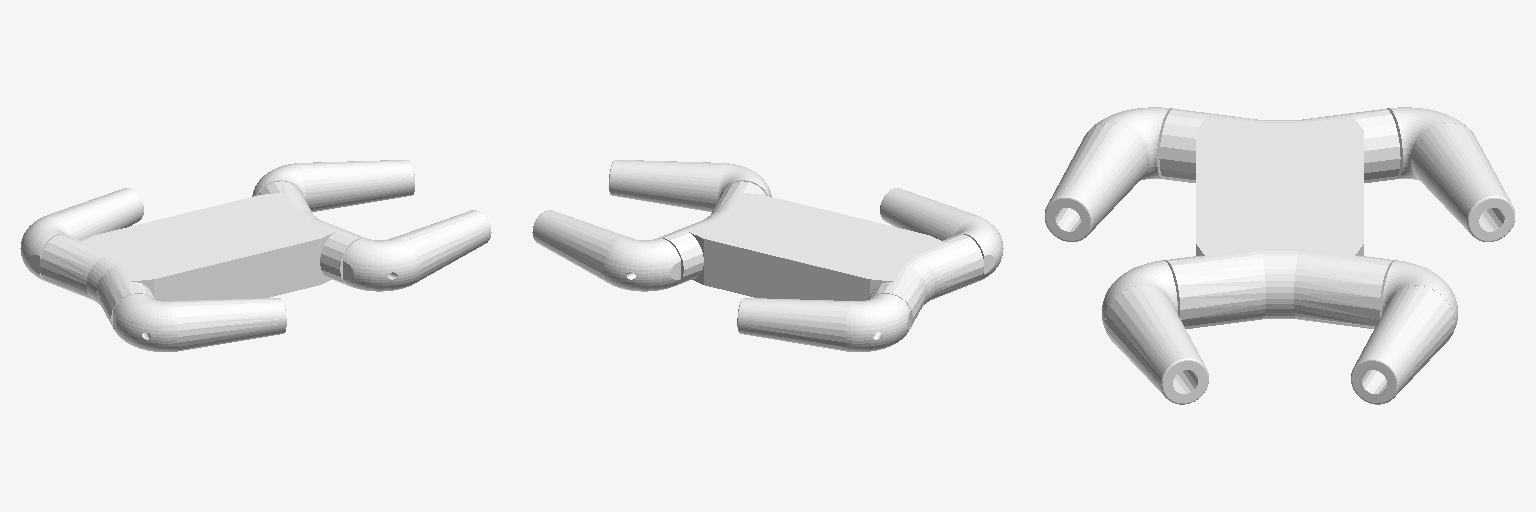
The robot description file, URDF, robot "17_degree":
<?xml version="1.0" encoding="utf-8"?>
<!-- This URDF was automatically created by SolidWorks to URDF Exporter! Originally created by [author] ([email redacted]) 
     Commit Version: 1.5.1-0-g916b5db  Build Version: 1.5.7152.31018
     For more information, please see http://wiki.ros.org/sw_urdf_exporter -->
<robot
  name="17_degree">
  <link
    name="base_link">
    <inertial>
      <origin
        xyz="2.0817E-17 5.804E-08 0"
        rpy="0 0 0" />
      <mass
        value="2.803" />
      <inertia
        ixx="0.009895166"
        ixy="1.3103E-18"
        ixz="-8.3723E-11"
        iyy="0.0416386"
        iyz="-2.6294E-18"
        izz="0.049165548" />
    </inertial>
    <visual>
      <origin
        xyz="0 0 0"
        rpy="0 0 0" />
      <geometry>
        <mesh
          filename="package://17_degree/meshes/base_link.STL" />
      </geometry>
      <material
        name="">
        <color
          rgba="1 1 1 1" />
      </material>
    </visual>
    <collision>
      <origin
        xyz="0 0 0"
        rpy="0 0 0" />
      <geometry>
        <mesh
          filename="package://17_degree/meshes/base_link.STL" />
      </geometry>
    </collision>
  </link>
  <link
    name="left_fromt_link">
    <inertial>
      <origin
        xyz="-9.9038E-08 0.071472 -0.016056"
        rpy="0 0 0" />
      <mass
        value="0.0904" />
      <inertia
        ixx="0.000308415"
        ixy="3.2333E-10"
        ixz="6.0715E-10"
        iyy="0.00005938"
        iyz="-0.000051899"
        izz="0.000296968" />
    </inertial>
    <visual>
      <origin
        xyz="0 0 0"
        rpy="0 0 0" />
      <geometry>
        <mesh
          filename="package://17_degree/meshes/left_fromt_link.STL" />
      </geometry>
      <material
        name="">
        <color
          rgba="1 1 1 1" />
      </material>
    </visual>
    <collision>
      <origin
        xyz="0 0 0"
        rpy="0 0 0" />
      <geometry>
        <mesh
          filename="package://17_degree/meshes/left_fromt_link.STL" />
      </geometry>
    </collision>
  </link>
  <joint
    name="left_front_leg"
    type="continuous">
    <origin
      xyz="0.16011 0.098499 0"
      rpy="1.5708 1.5708 0" />
    <parent
      link="base_link" />
    <child
      link="left_fromt_link" />
    <axis
      xyz="0 0.29237 -0.9563" />
    <limit
      effort="5"
      velocity="487" />
  </joint>
  <link
    name="right_front_link">
    <inertial>
      <origin
        xyz="9.9038E-08 0.071472 0.016056"
        rpy="0 0 0" />
      <mass
        value="0.094" />
      <inertia
        ixx="0.000308415"
        ixy="-3.2333E-10"
        ixz="6.0715E-10"
        iyy="0.00005938"
        iyz="0.000051899"
        izz="0.000296968" />
    </inertial>
    <visual>
      <origin
        xyz="0 0 0"
        rpy="0 0 0" />
      <geometry>
        <mesh
          filename="package://17_degree/meshes/right_front_link.STL" />
      </geometry>
      <material
        name="">
        <color
          rgba="1 1 1 1" />
      </material>
    </visual>
    <collision>
      <origin
        xyz="0 0 0"
        rpy="0 0 0" />
      <geometry>
        <mesh
          filename="package://17_degree/meshes/right_front_link.STL" />
      </geometry>
    </collision>
  </link>
  <joint
    name="right_front_leg"
    type="continuous">
    <origin
      xyz="0.16011 -0.098499 0"
      rpy="1.5708 1.5708 0" />
    <parent
      link="base_link" />
    <child
      link="right_front_link" />
    <axis
      xyz="0 0.29237 0.9563" />
    <limit
      effort="5"
      velocity="487" />
  </joint>
  <link
    name="right_back_link">
    <inertial>
      <origin
        xyz="8.0689E-08 0.063656 0.036251"
        rpy="0 0 0" />
      <mass
        value="0.094" />
      <inertia
        ixx="0.000308415"
        ixy="-3.5446E-10"
        ixz="2.9035E-10"
        iyy="0.000050668"
        iyz="-0.000023402"
        izz="0.00030568" />
    </inertial>
    <visual>
      <origin
        xyz="0 0 0"
        rpy="0 0 0" />
      <geometry>
        <mesh
          filename="package://17_degree/meshes/right_back_link.STL" />
      </geometry>
      <material
        name="">
        <color
          rgba="1 1 1 1" />
      </material>
    </visual>
    <collision>
      <origin
        xyz="0 0 0"
        rpy="0 0 0" />
      <geometry>
        <mesh
          filename="package://17_degree/meshes/right_back_link.STL" />
      </geometry>
    </collision>
  </link>
  <joint
    name="right_back_leg"
    type="continuous">
    <origin
      xyz="-0.16011 -0.098499 0"
      rpy="1.8675 1.5708 0" />
    <parent
      link="base_link" />
    <child
      link="right_back_link" />
    <axis
      xyz="0 0 1" />
    <limit
      effort="5"
      velocity="487" />
  </joint>
  <link
    name="left_back_link">
    <inertial>
      <origin
        xyz="-8.0689E-08 0.050276 -0.053278"
        rpy="0 0 0" />
      <mass
        value="0.0904" />
      <inertia
        ixx="0.000308415"
        ixy="4.2387E-10"
        ixz="1.7403E-10"
        iyy="0.000085553"
        iyz="0.000090702"
        izz="0.000270795" />
    </inertial>
    <visual>
      <origin
        xyz="0 0 0"
        rpy="0 0 0" />
      <geometry>
        <mesh
          filename="package://17_degree/meshes/left_back_link.STL" />
      </geometry>
      <material
        name="">
        <color
          rgba="1 1 1 1" />
      </material>
    </visual>
    <collision>
      <origin
        xyz="0 0 0"
        rpy="0 0 0" />
      <geometry>
        <mesh
          filename="package://17_degree/meshes/left_back_link.STL" />
      </geometry>
    </collision>
  </link>
  <joint
    name="left_back_leg"
    type="continuous">
    <origin
      xyz="-0.16011 0.098499 0"
      rpy="1.5708 1.5708 0" />
    <parent
      link="base_link" />
    <child
      link="left_back_link" />
    <axis
      xyz="0 -0.29237 -0.9563" />
    <limit
      effort="5"
      velocity="487" />
  </joint>
</robot>

--- Facts derived from the render (not from the file) ---
Views: 3 orthographic renders of the robot side by side, from view 1: azimuth 30°, elevation 25°; view 2: azimuth 150°, elevation 25°; view 3: azimuth 270°, elevation 25°.
Model 17_degree with 5 links and 4 joints (4 continuous), rooted at base_link, posed all joints at 0.
Visible links, largest first — view 1: base_link, right_back_link, right_front_link, left_fromt_link, left_back_link; view 2: base_link, left_back_link, left_fromt_link, right_front_link, right_back_link; view 3: base_link, left_back_link, right_back_link, right_front_link, left_fromt_link.
Boxes of the visible links, x1,y1,x2,y2 form: base_link: (40,181,364,326); right_back_link: (113,294,286,351); right_front_link: (343,210,491,291); left_fromt_link: (252,160,414,211); left_back_link: (20,188,143,281); base_link: (659,181,983,326); left_back_link: (737,294,910,351); left_fromt_link: (532,210,680,291); right_front_link: (609,160,771,211); right_back_link: (880,188,1003,281); base_link: (1159,109,1400,328); left_back_link: (1387,107,1514,241); right_back_link: (1045,107,1172,241); right_front_link: (1102,260,1208,404); left_fromt_link: (1351,260,1457,404).
Size in the robot's own frame: 0.5442 by 0.4213 by 0.064 metres.
Meshes: 5 distinct files referenced, 5 mesh visuals loaded (5 binary STL).